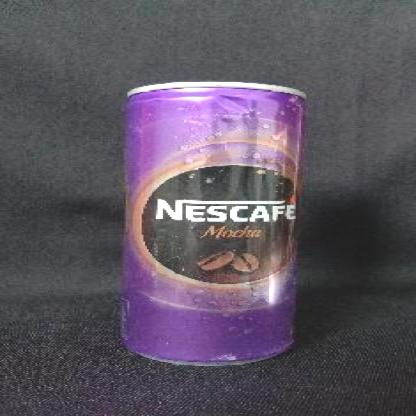alumunium_can: (122, 80, 308, 366)
